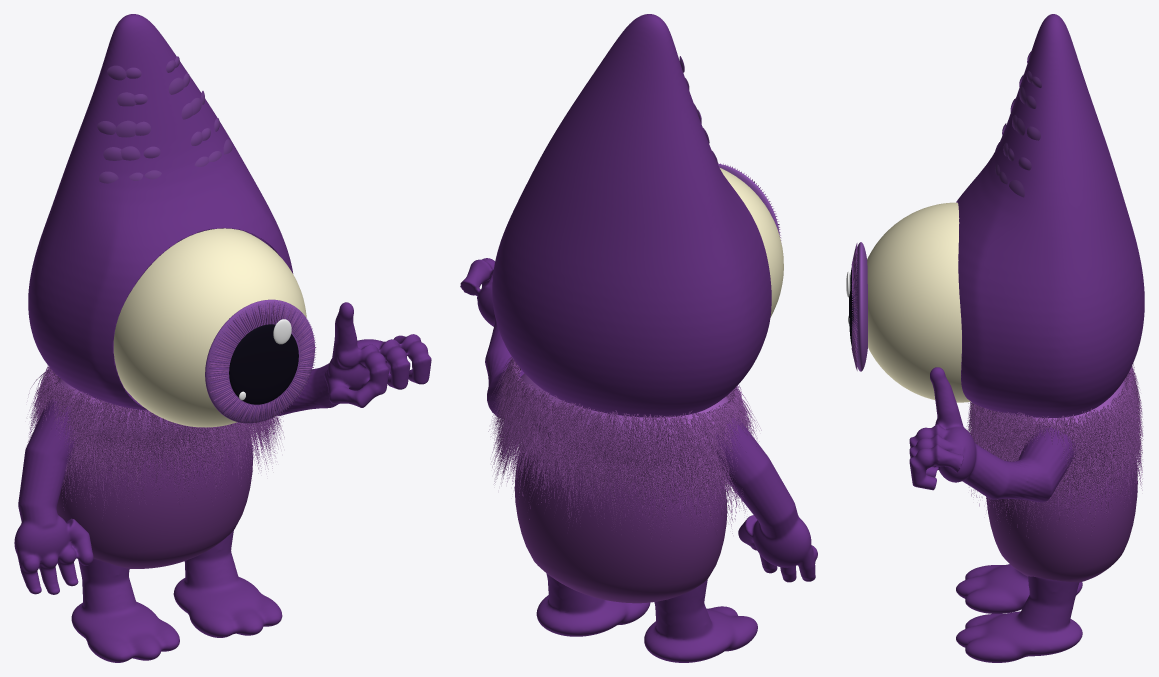
File: myr5.glb
3 views of the same model, side by side, from view 1: azimuth 30°, elevation 25°; view 2: azimuth 150°, elevation 25°; view 3: azimuth 270°, elevation 25° (orthographic). The views are drawn at different scales.
Visible parts, largest first — view 1: Crown, Eyeball, Belly, Curled finger, Silky collar strands, Foot, Iris, Pupil, Collar undercoat; view 2: Crown, Silky collar strands, Belly, Curled finger, Foot, Collar undercoat, Eyeball; view 3: Crown, Eyeball, Belly, Silky collar strands, Curled finger, Foot, Iris, Collar undercoat.
Boxes of the visible parts, <box> form: Crown: <box>28,14,293,410</box>; Eyeball: <box>113,228,306,427</box>; Belly: <box>56,422,252,568</box>; Curled finger: <box>14,302,431,594</box>; Silky collar strands: <box>27,365,284,516</box>; Foot: <box>71,530,282,662</box>; Iris: <box>205,299,314,423</box>; Pupil: <box>229,324,298,404</box>; Collar undercoat: <box>54,378,231,451</box>; Crown: <box>492,14,771,417</box>; Silky collar strands: <box>488,356,761,540</box>; Belly: <box>514,437,727,603</box>; Curled finger: <box>460,258,817,582</box>; Foot: <box>536,573,757,662</box>; Collar undercoat: <box>514,373,731,468</box>; Eyeball: <box>720,168,783,317</box>; Crown: <box>956,14,1144,417</box>; Eyeball: <box>867,202,970,402</box>; Belly: <box>986,450,1137,582</box>; Silky collar strands: <box>966,363,1143,537</box>; Curled finger: <box>909,367,1077,502</box>; Foot: <box>956,564,1082,662</box>; Iris: <box>854,242,867,371</box>; Collar undercoat: <box>982,380,1125,468</box>.
Size of the model in its own units: 2.49 by 3.98 by 1.8.
